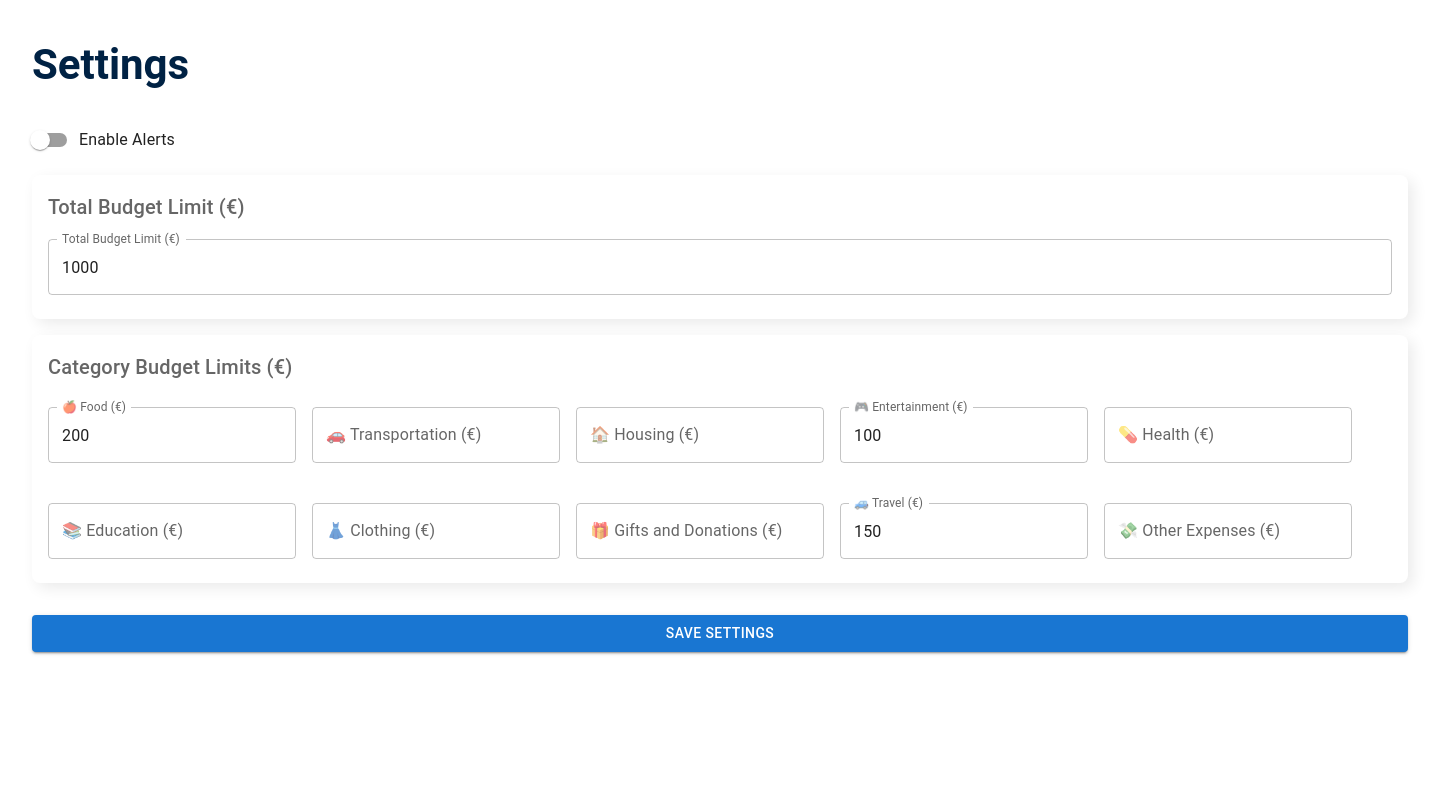
Test: Settings Component › saves settings successfully and shows success message
The image size is (1440, 810).
Replace the text in the number field labelled "Total Budget Limit (€)" with "1200": [720, 267] box [48,239,1392,295]
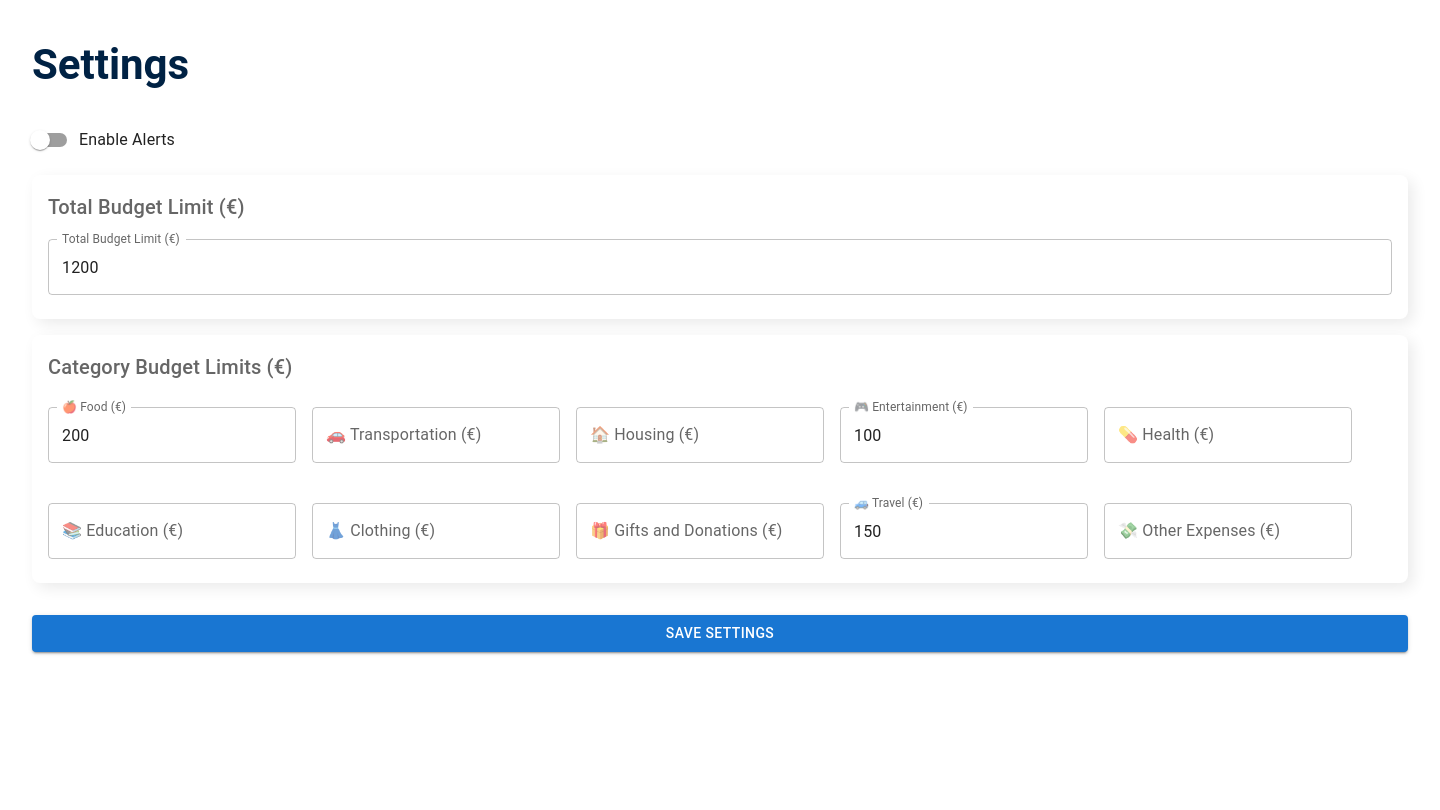
Replace the text in the number field labelled "🍎 Food (€)" with "300": [172, 435] box [48,407,296,463]
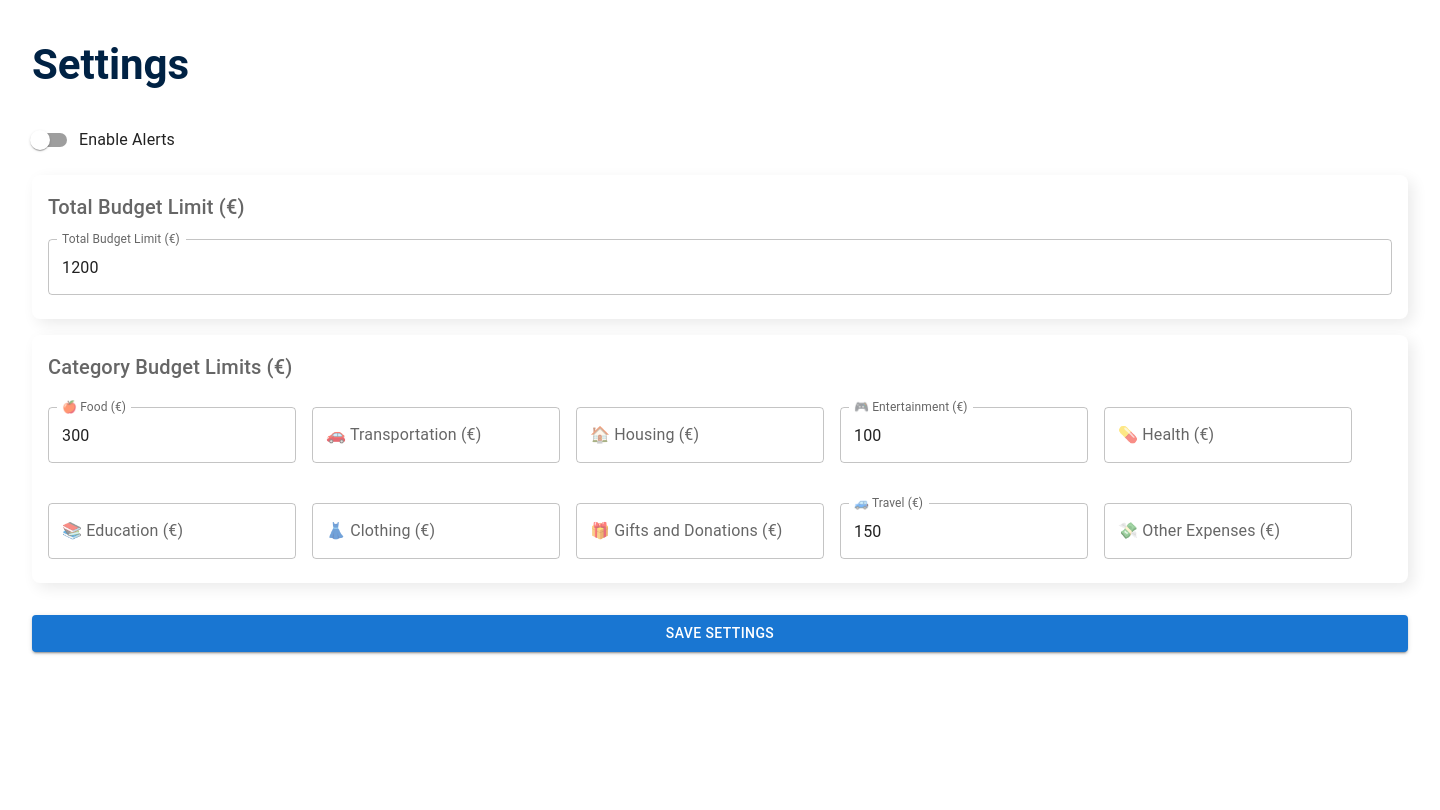
Click the button "Save Settings": [720, 633] box [32,615,1408,652]
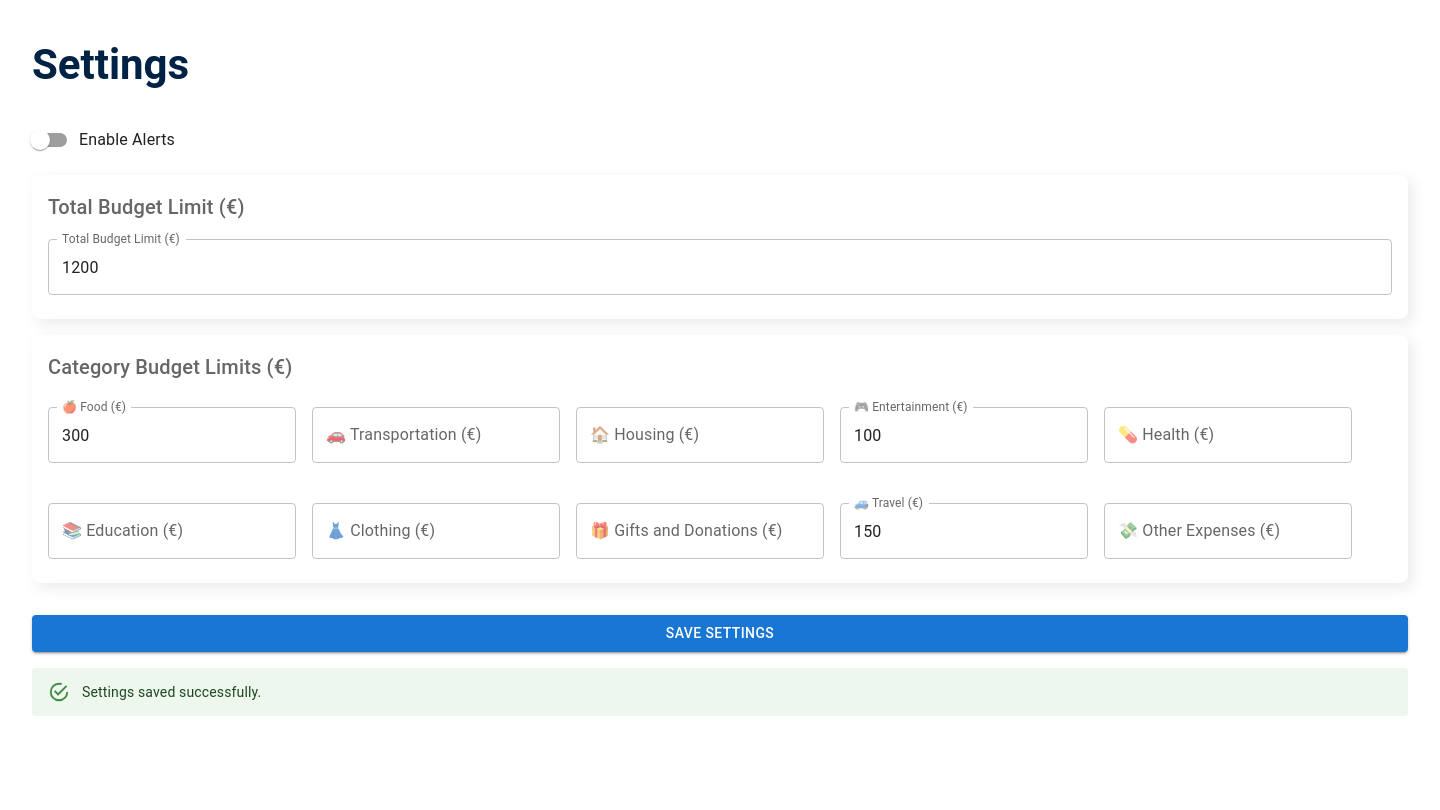
expect the text "Settings saved successfully." is shown: met, box [82,684,262,700]
